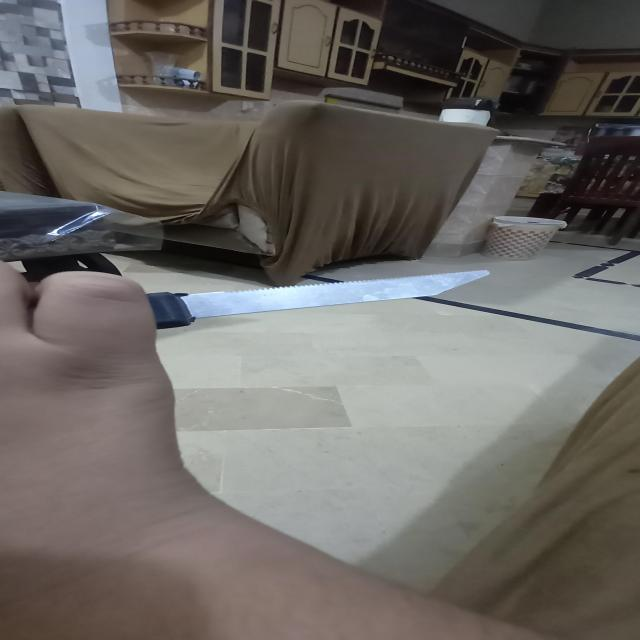weapon: (149, 269, 493, 329)
